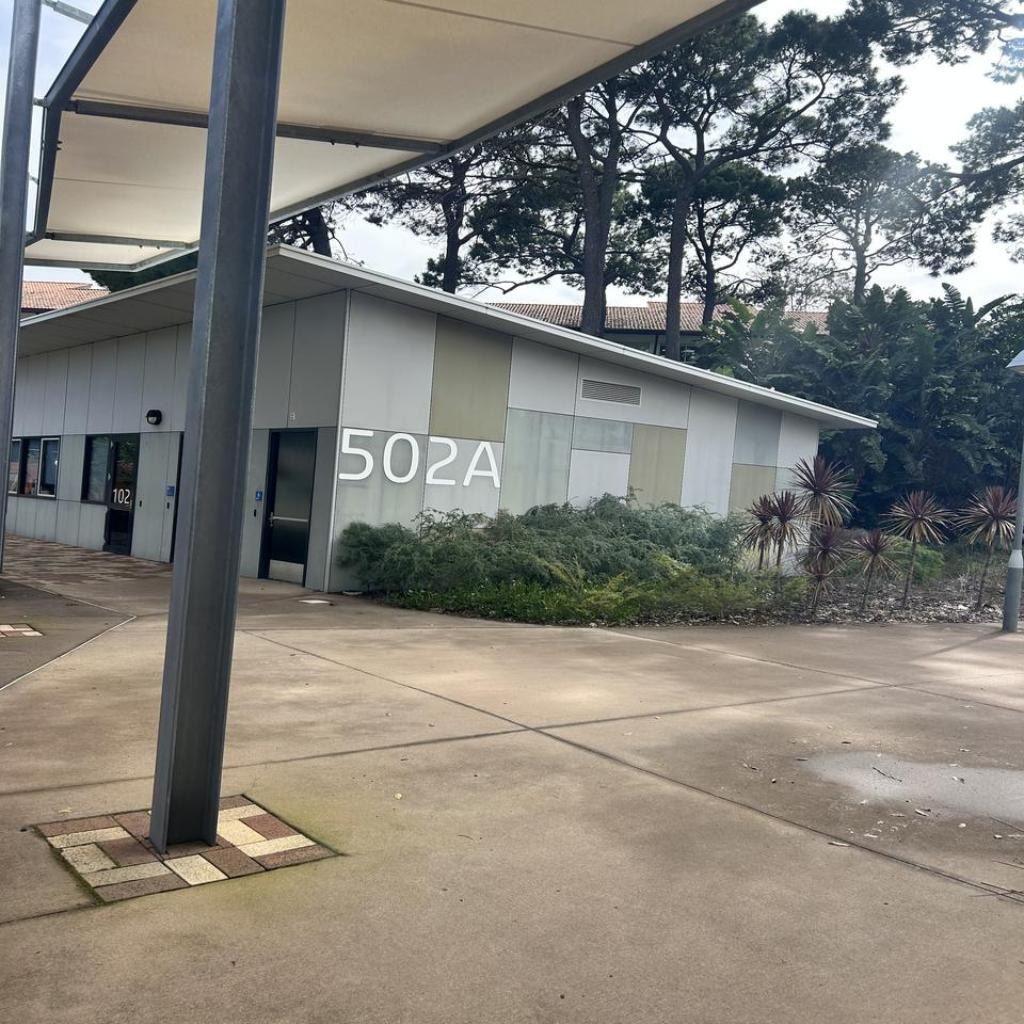BuildingCodes: (337, 424, 503, 490)
